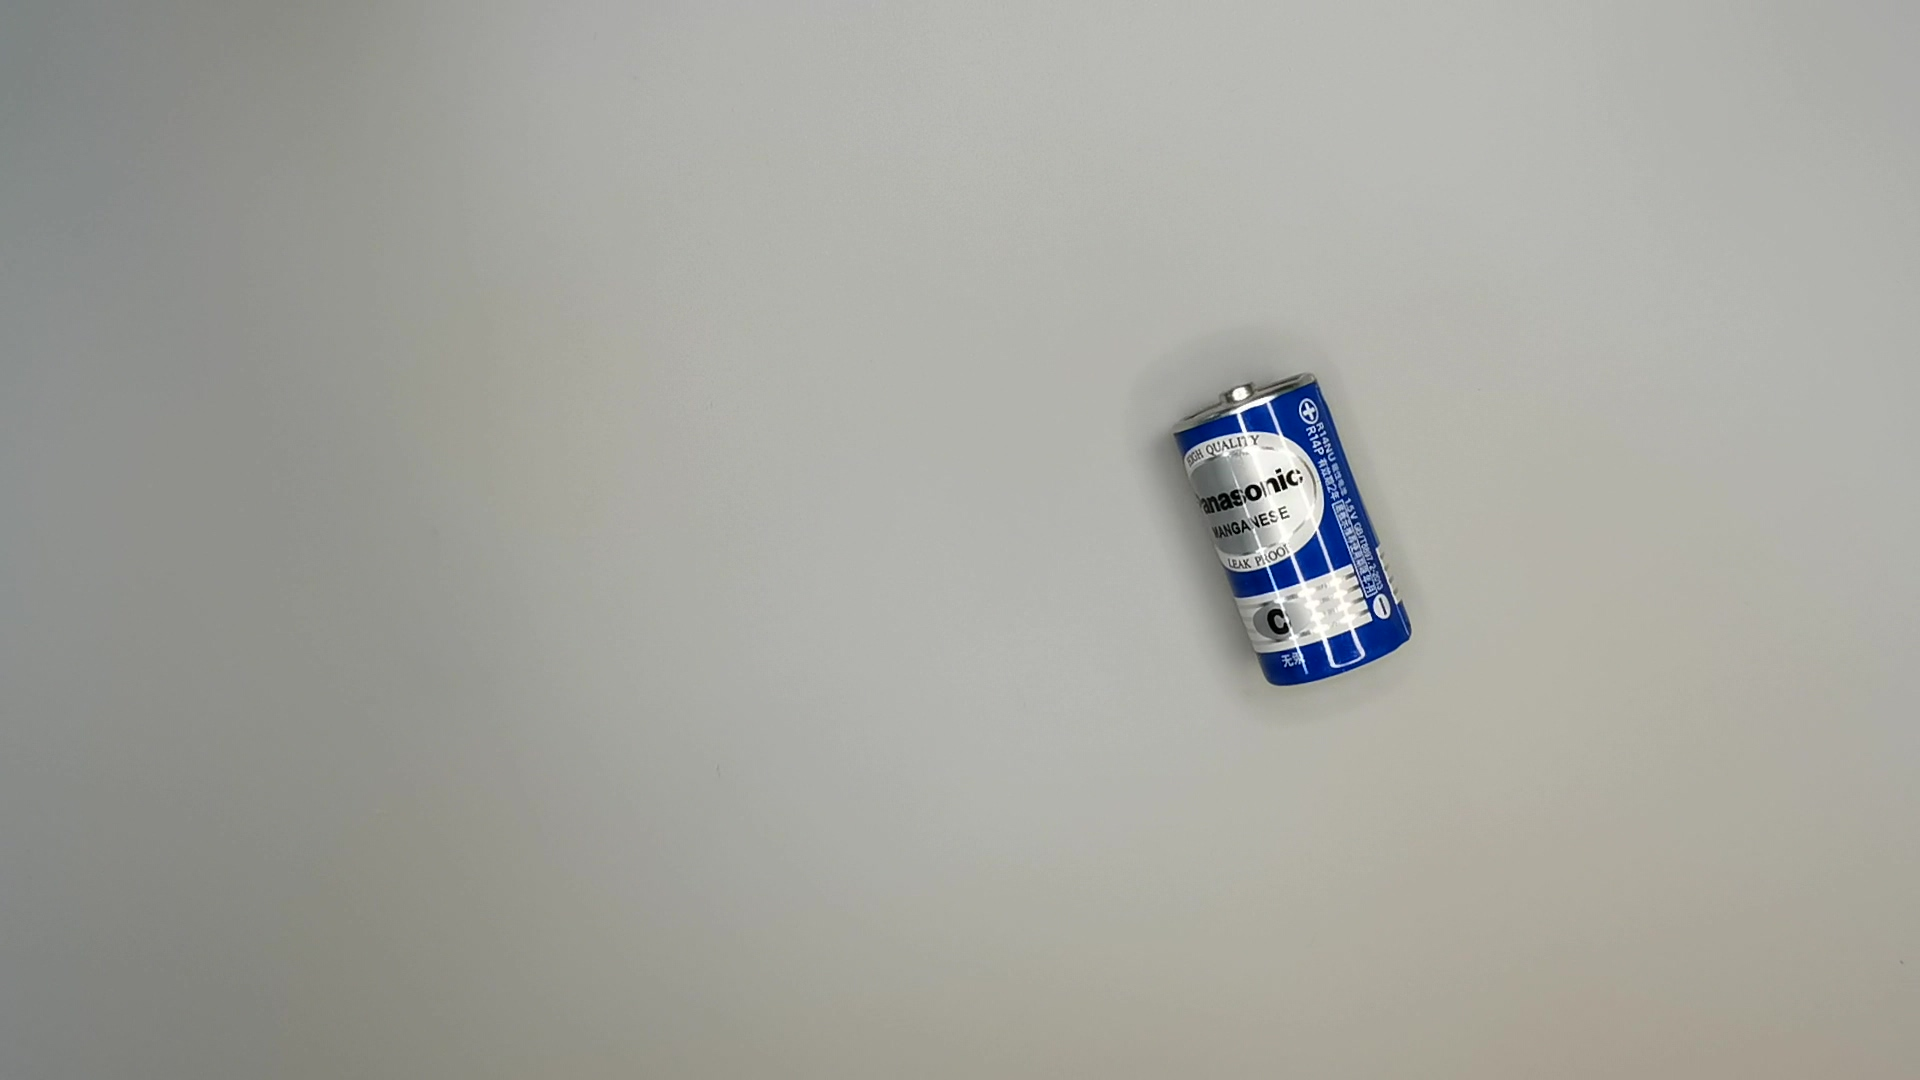battery: (1163, 367, 1418, 695)
